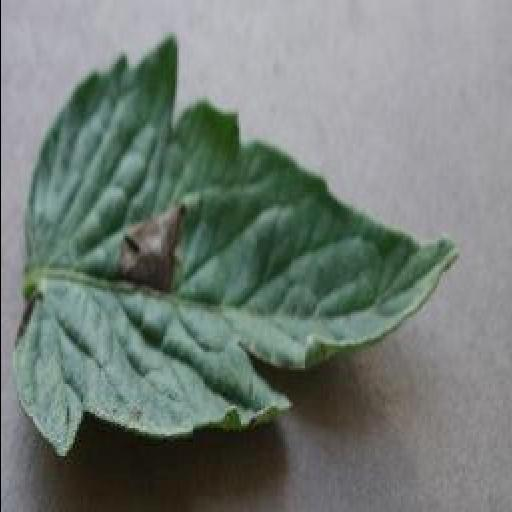disease_tomato: (6, 35, 464, 460)
